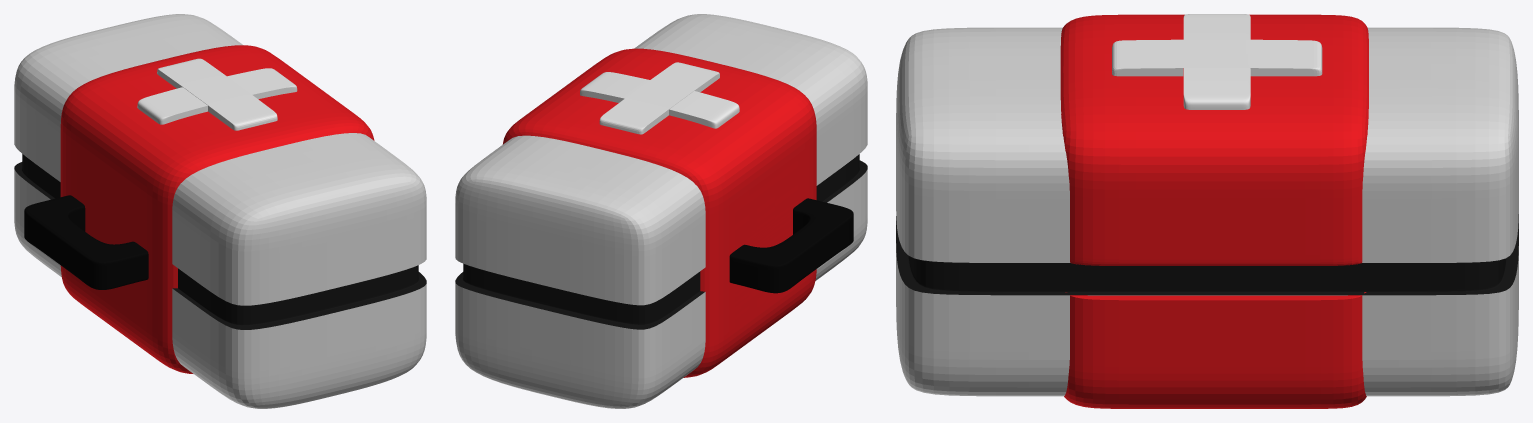
File: medkit.fbx
3 renders of one model, left to right at view 1: azimuth 30°, elevation 25°; view 2: azimuth 150°, elevation 25°; view 3: azimuth 270°, elevation 25°, orthographic. The views are drawn at different scales.
Parts seen in each view (by area): view 1: Cube.003, Cube.004, Cube.006, Cube.005, cruz1.001, cruz2.001; view 2: Cube.003, Cube.004, Cube.006, Cube.005, cruz1.001, cruz2.001; view 3: Cube.003, Cube.004, Cube.006, cruz1.001, cruz2.001.
Boxes of the visible parts, <box> form: Cube.003: <box>14,14,426,408</box>; Cube.004: <box>60,45,374,373</box>; Cube.006: <box>14,154,426,329</box>; Cube.005: <box>24,195,148,289</box>; cruz1.001: <box>157,58,277,130</box>; cruz2.001: <box>137,68,297,124</box>; Cube.003: <box>455,14,867,408</box>; Cube.004: <box>502,48,816,377</box>; Cube.006: <box>455,154,867,329</box>; Cube.005: <box>729,198,853,293</box>; cruz1.001: <box>599,62,719,134</box>; cruz2.001: <box>580,72,739,128</box>; Cube.003: <box>896,27,1518,396</box>; Cube.004: <box>1060,14,1368,408</box>; Cube.006: <box>896,214,1518,295</box>; cruz1.001: <box>1112,39,1322,76</box>; cruz2.001: <box>1183,14,1250,109</box>.
Bounding box in the file's own units: 242 × 200 × 366.
